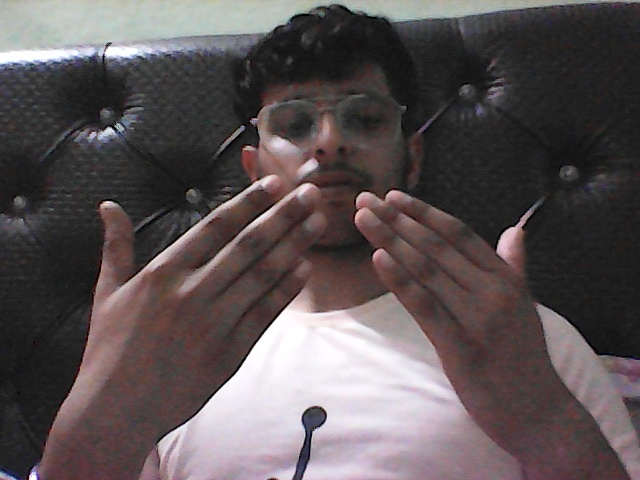thankyou: (75, 168, 574, 442)
